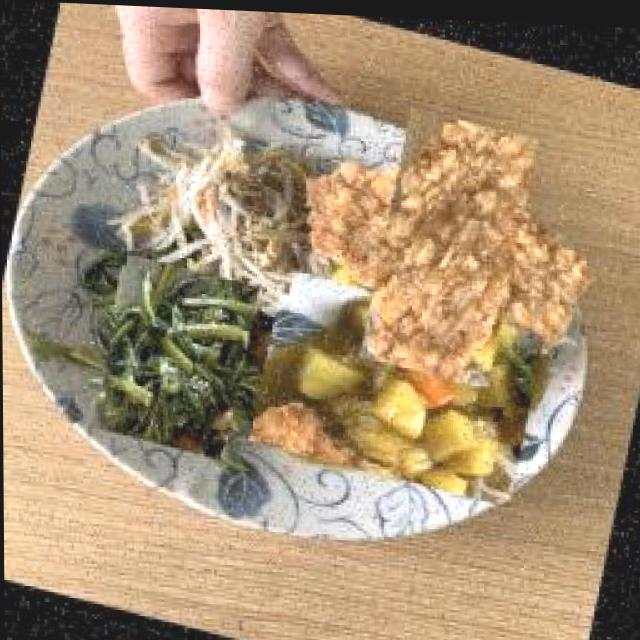curry: (248, 264, 548, 504)
fried_chicken: (336, 125, 567, 363)
mung_bean_sprouts: (134, 118, 320, 294)
water_spinach: (84, 258, 271, 449)
